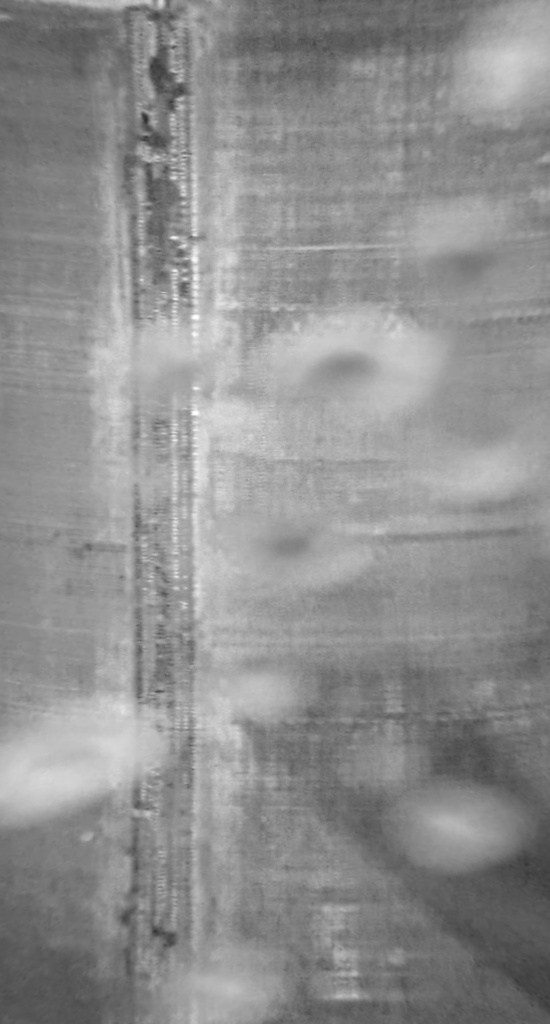splice: (109, 1, 206, 1022)
